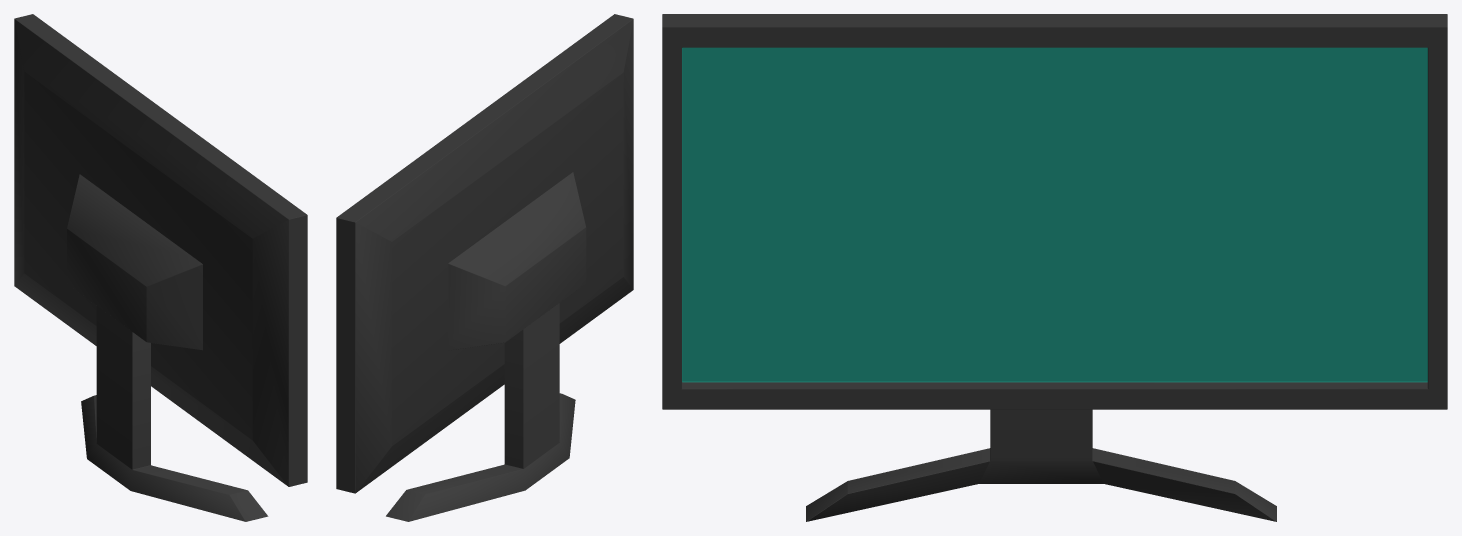
The model's file is SM_Display_01.fbx.
3 views of the same model, side by side, from view 1: azimuth 30°, elevation 25°; view 2: azimuth 150°, elevation 25°; view 3: azimuth 270°, elevation 25° (orthographic). The views are drawn at different scales.
Parts seen in each view (by area): view 1: SM_Display_01; view 2: SM_Display_01; view 3: SM_Display_01.
Boxes of the visible parts, x1,y1,x2,y2 form: SM_Display_01: [14, 14, 307, 521]; SM_Display_01: [336, 14, 633, 521]; SM_Display_01: [662, 14, 1447, 521].
Size of the model in its own units: 14.26 by 87.42 by 59.88.
